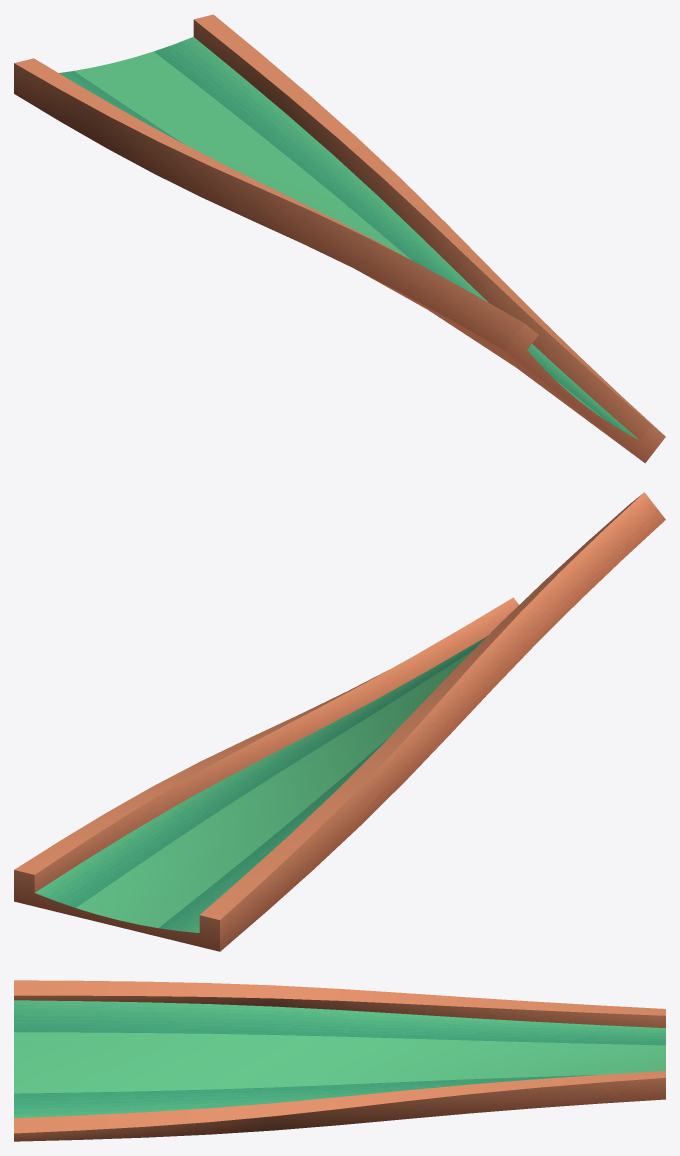
Rendered from spline-concave-straight-skew-left.glb.
3 views of the same model, one above another, from view 1: azimuth 30°, elevation 25°; view 2: azimuth 150°, elevation 25°; view 3: azimuth 270°, elevation 25° (orthographic). The views are drawn at different scales.
Visible parts, largest first — view 1: spline-concave-straight-skew-left; view 2: spline-concave-straight-skew-left; view 3: spline-concave-straight-skew-left.
Boxes of the visible parts, box(x1,y1,x2,y2) form: spline-concave-straight-skew-left: box(14, 14, 665, 463); spline-concave-straight-skew-left: box(14, 492, 665, 951); spline-concave-straight-skew-left: box(14, 980, 665, 1141).
Size of the model in its own units: 1.02 by 0.8107 by 4.
1 material, 1 textured.
